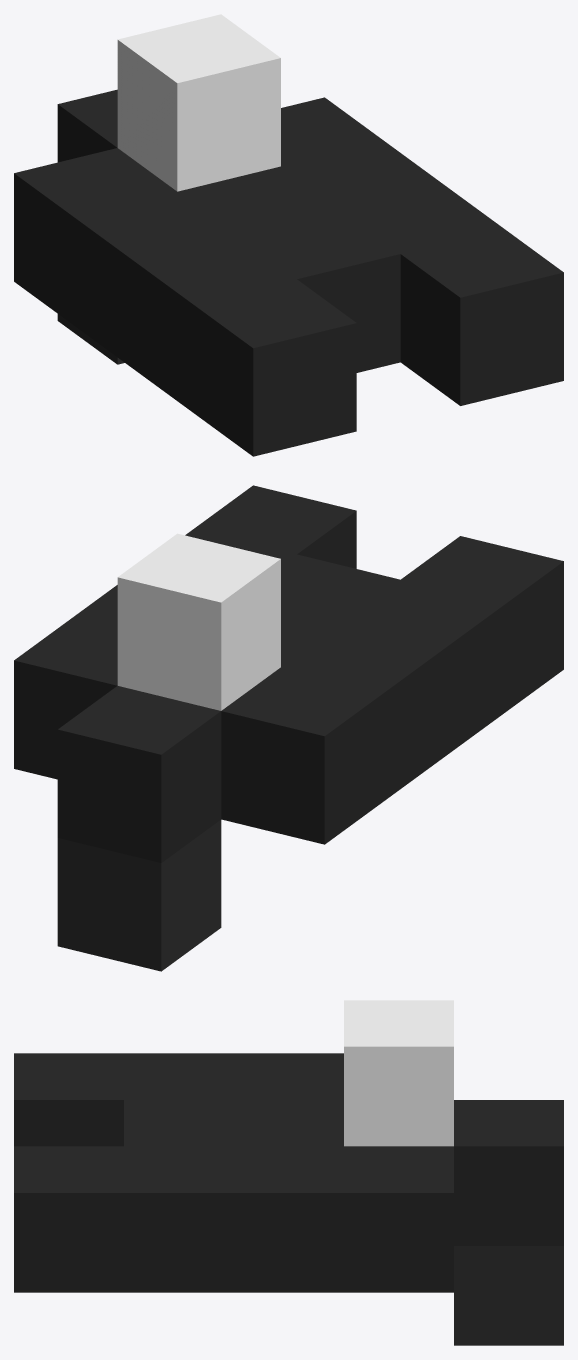
Rendered from Extra-8-StarMarine_MachineGun_R.obj.
3 renders of one model, top to bottom at view 1: azimuth 30°, elevation 25°; view 2: azimuth 150°, elevation 25°; view 3: azimuth 270°, elevation 25°, orthographic. The views are drawn at different scales.
Parts seen in each view (by area): view 1: StarMarine_MachineGun_R; view 2: StarMarine_MachineGun_R; view 3: StarMarine_MachineGun_R.
Part boxes in pixels (left/top/right/bottom): StarMarine_MachineGun_R: left=14, top=14, right=563, bottom=456; StarMarine_MachineGun_R: left=14, top=485, right=563, bottom=971; StarMarine_MachineGun_R: left=14, top=1000, right=563, bottom=1345.
Bounding box in the file's own units: 0.3 × 0.3 × 0.5.
1 material, 1 textured.
